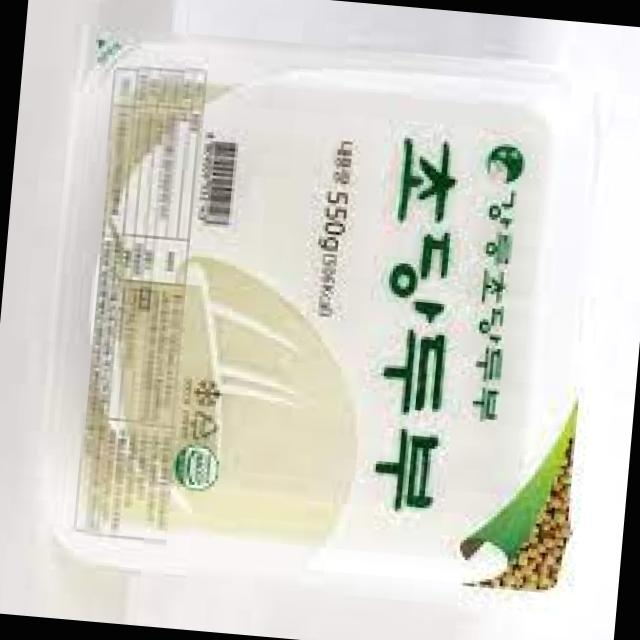tof: (29, 15, 632, 626)
